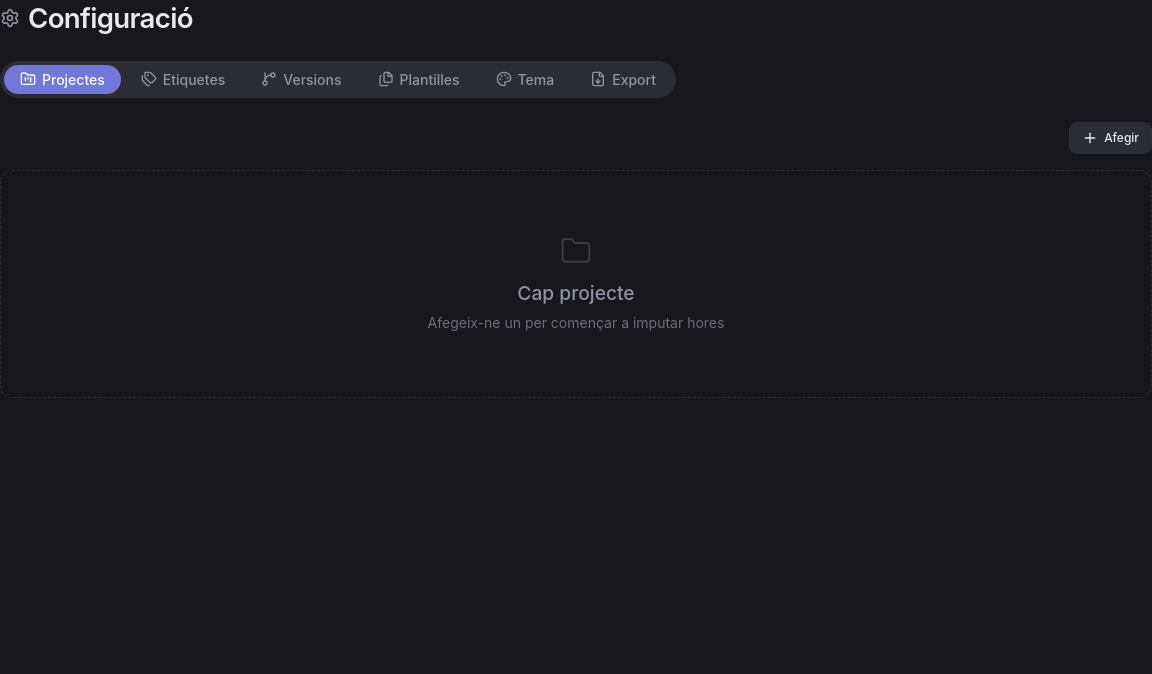
Scenario: ConfigPage › shows a mode-first selector and filters theme cards by selected mode
Click the tab "Tema": (525, 79) [480,65,570,94]
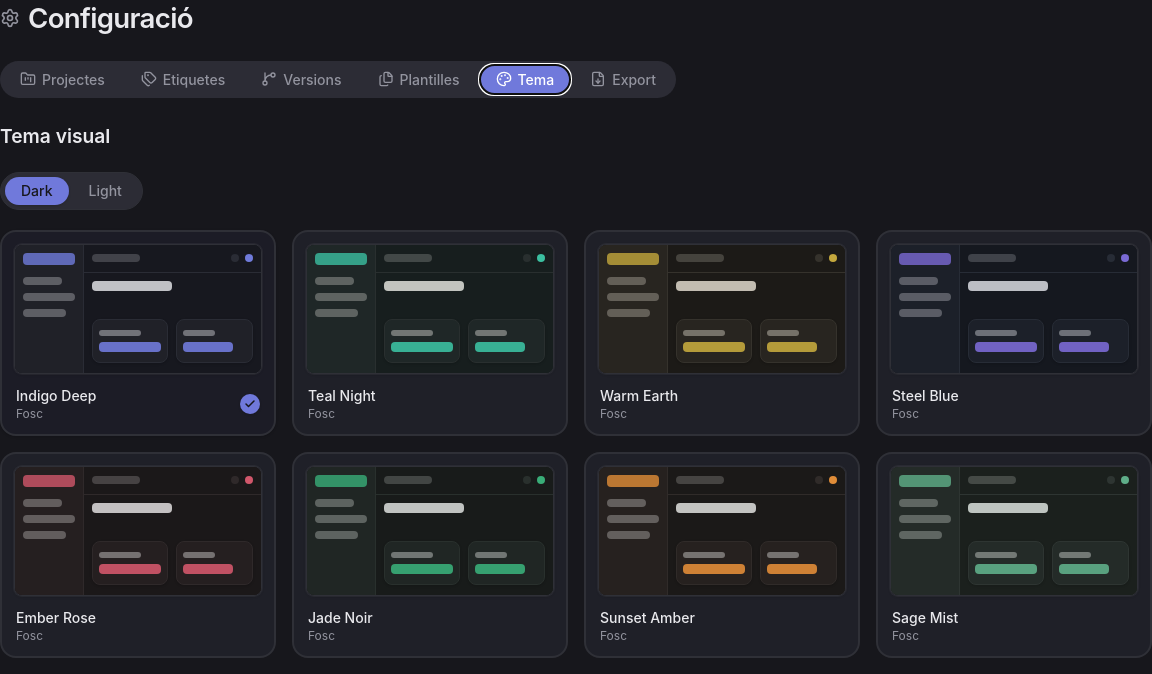
expect the button "Dark" is shown: met, box [5,177,68,205]
expect the button "Light" is shown: met
expect the 1st text "Fosc" is shown: met, box [16,406,43,421]
Click the button "Light": (105, 191) [72,177,138,205]
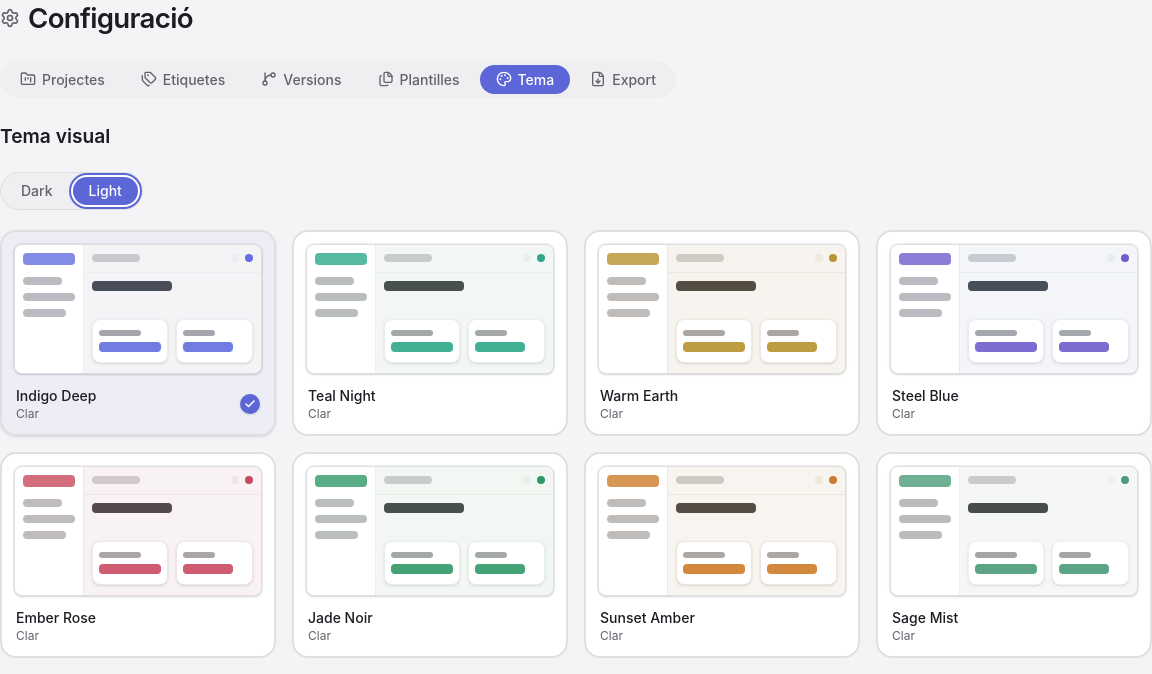
expect the button "Fosc" is gone: met
expect the 1st text "Clar" is shown: met, box [16,406,39,421]
